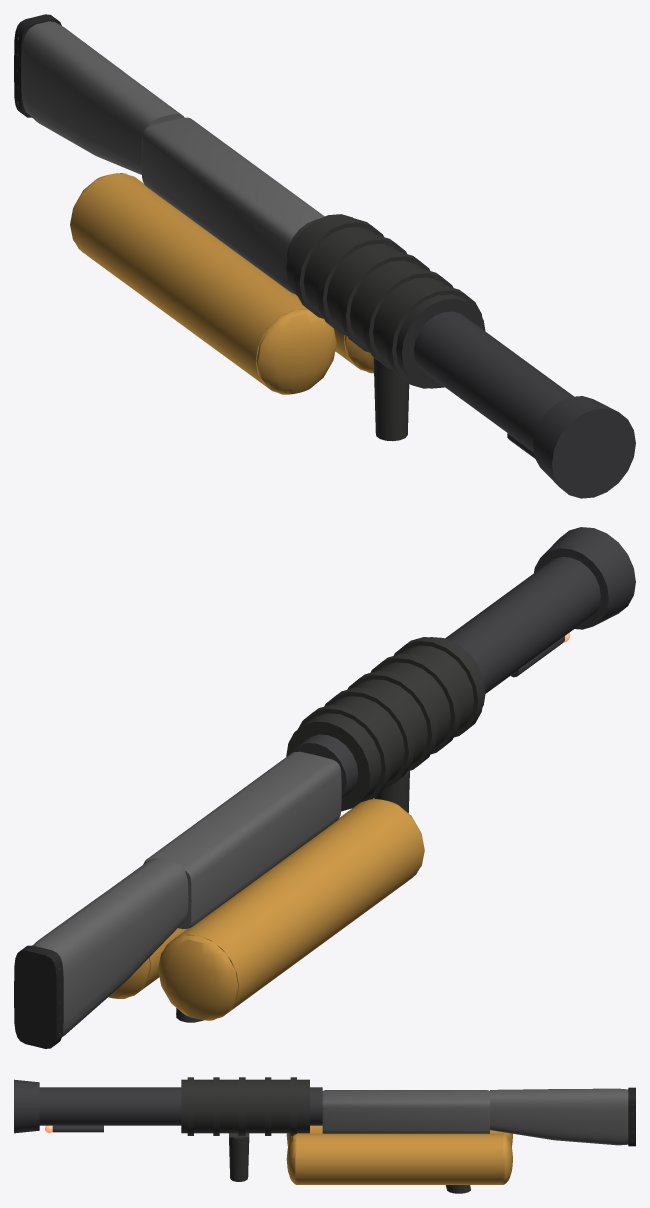
The model's file is flamecannon.glb.
3 renders of one model, top to bottom at view 1: azimuth 30°, elevation 25°; view 2: azimuth 150°, elevation 25°; view 3: azimuth 270°, elevation 25°, orthographic. The views are drawn at different scales.
Visible parts, largest first — view 1: Body; view 2: Body; view 3: Body.
Boxes of the visible parts, x1,y1,x2,y2 form: Body: (14,14,635,498); Body: (14,527,635,1048); Body: (14,1077,635,1193).
Bounding box in the file's own units: 0.168 × 0.1887 × 0.967.
